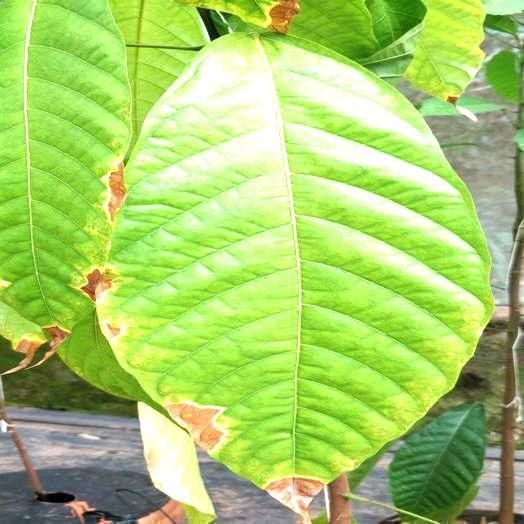Potassium: (97, 33, 492, 521), (0, 0, 131, 371)
